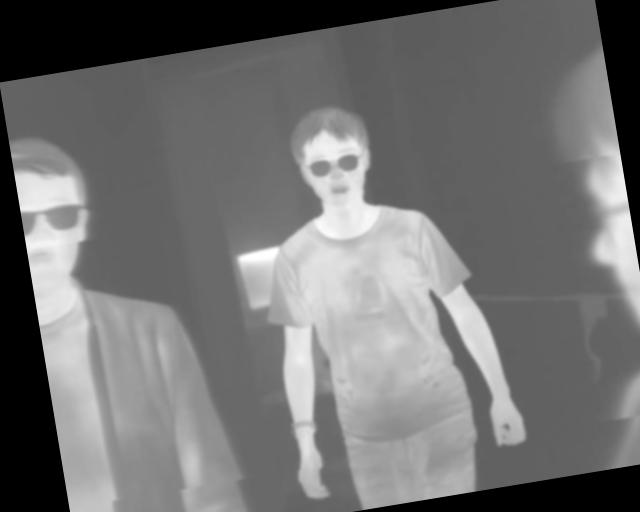face: (8, 124, 103, 294), (283, 98, 380, 216)
